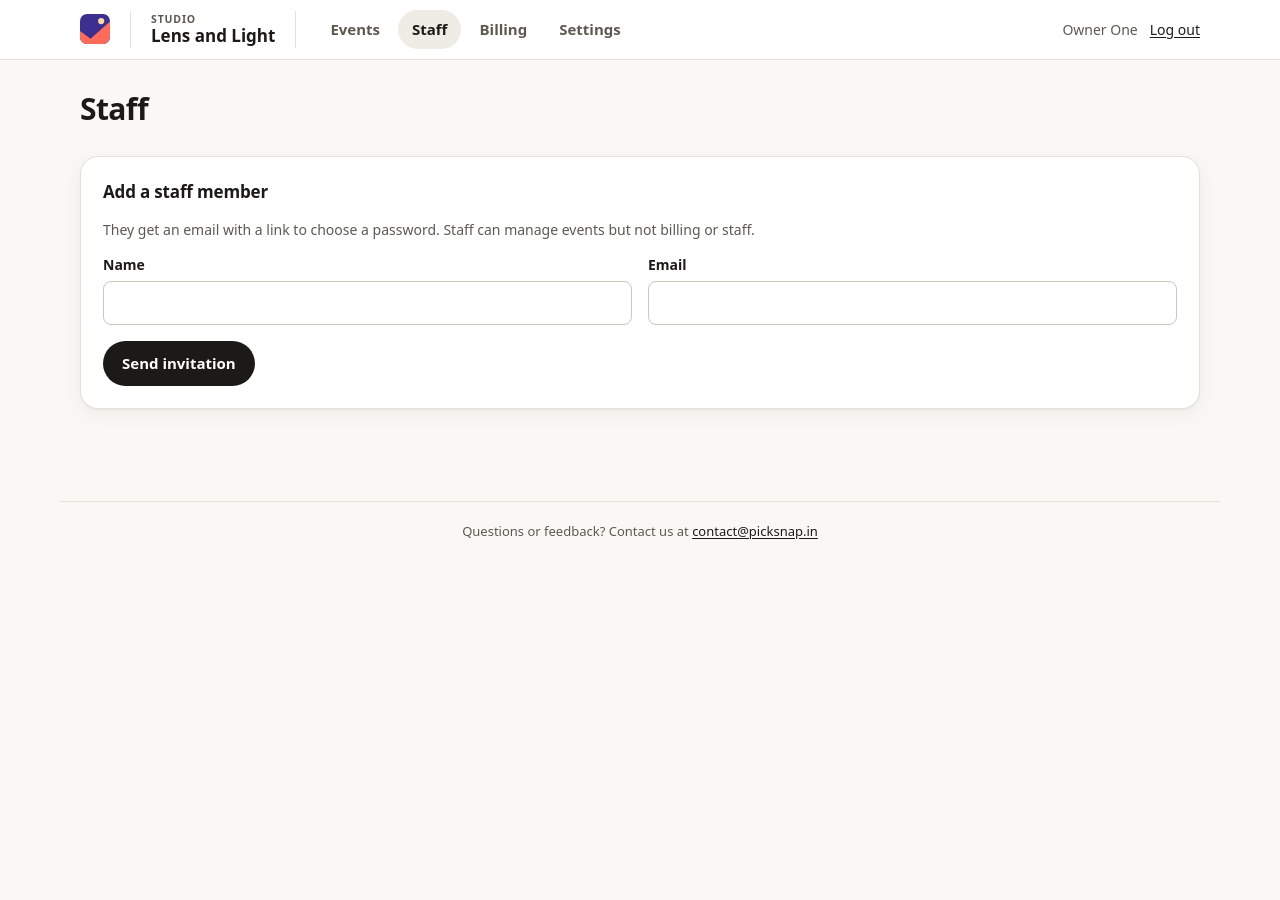
it: staff › lets the owner invite someone and shows the confirmation
Check: the heading "Staff" is shown, box [80,92,148,126]
In the field labelled "Name": (368, 303) [103,280,632,325], type "Meera"
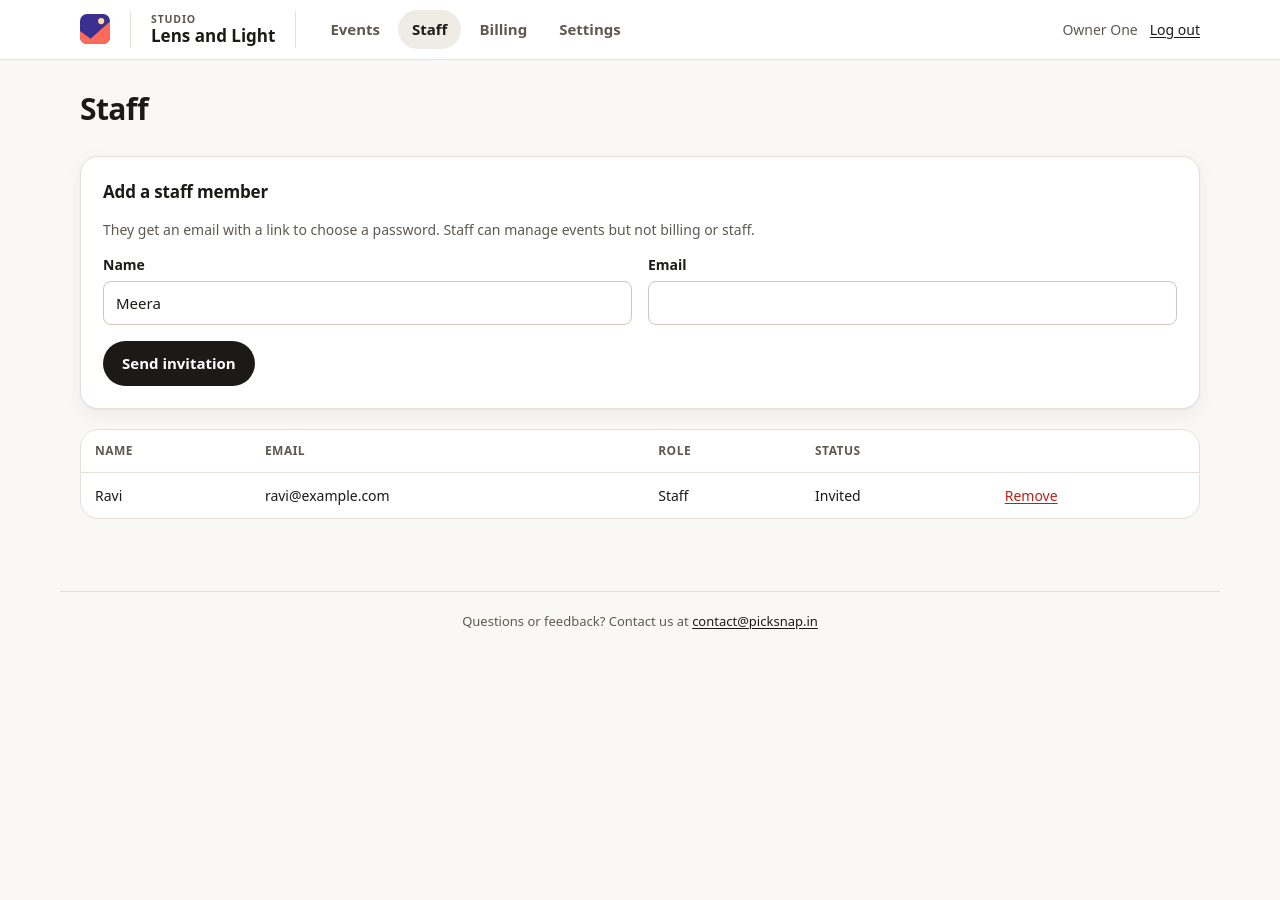
In the field labelled "Email": (912, 303) [648,280,1177,325], type "meera@example.com"
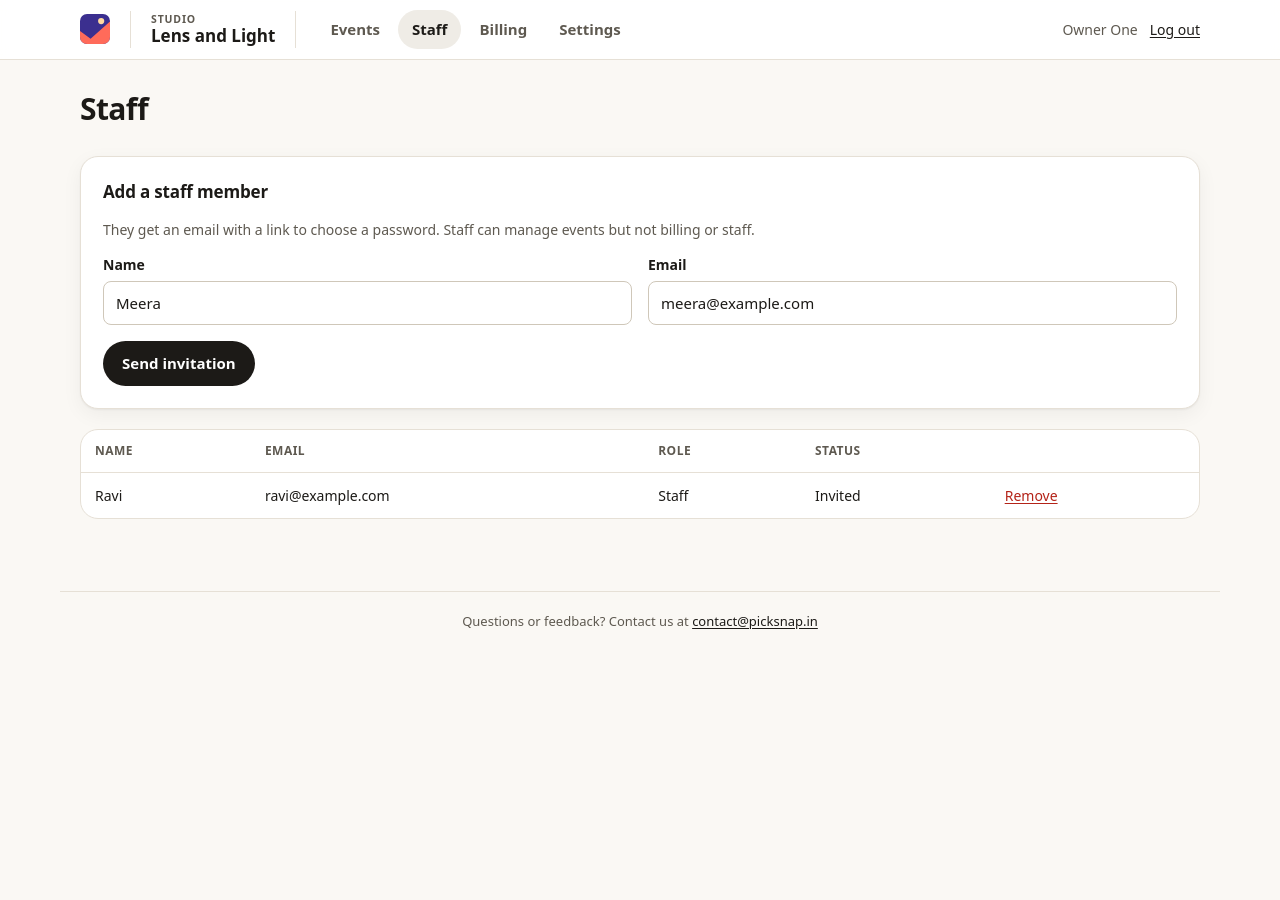
Click the button "Send invitation": (179, 363) [103,341,255,386]
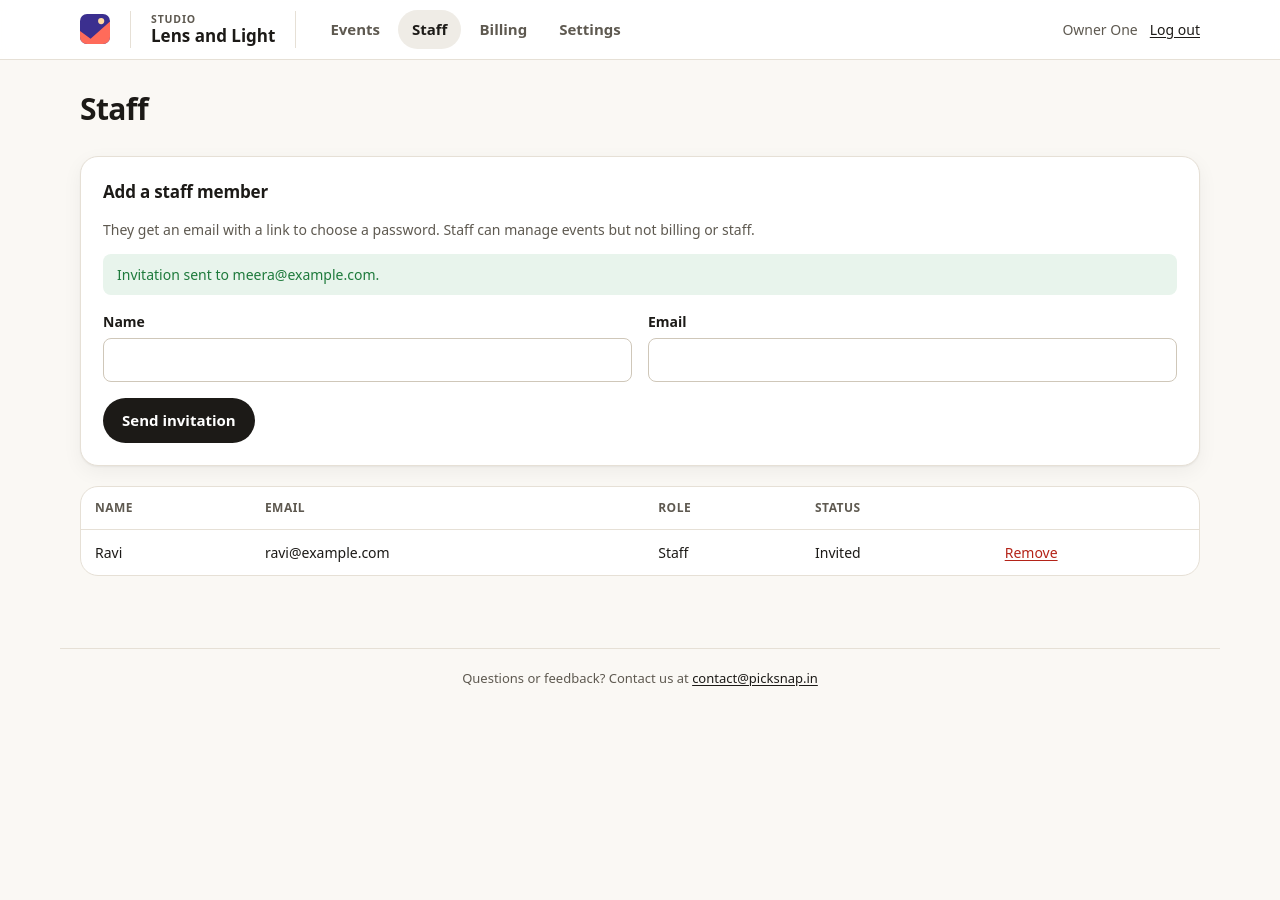
Check: the message reads "Invitation sent to meera@example.com.", box [117,264,379,284]
